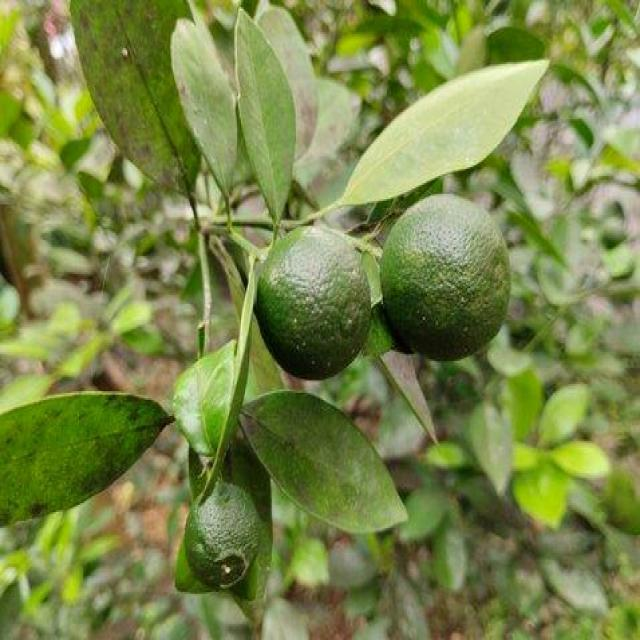Jeruk Belum Matang: (382, 196, 512, 364), (254, 228, 374, 382), (187, 483, 264, 592)
